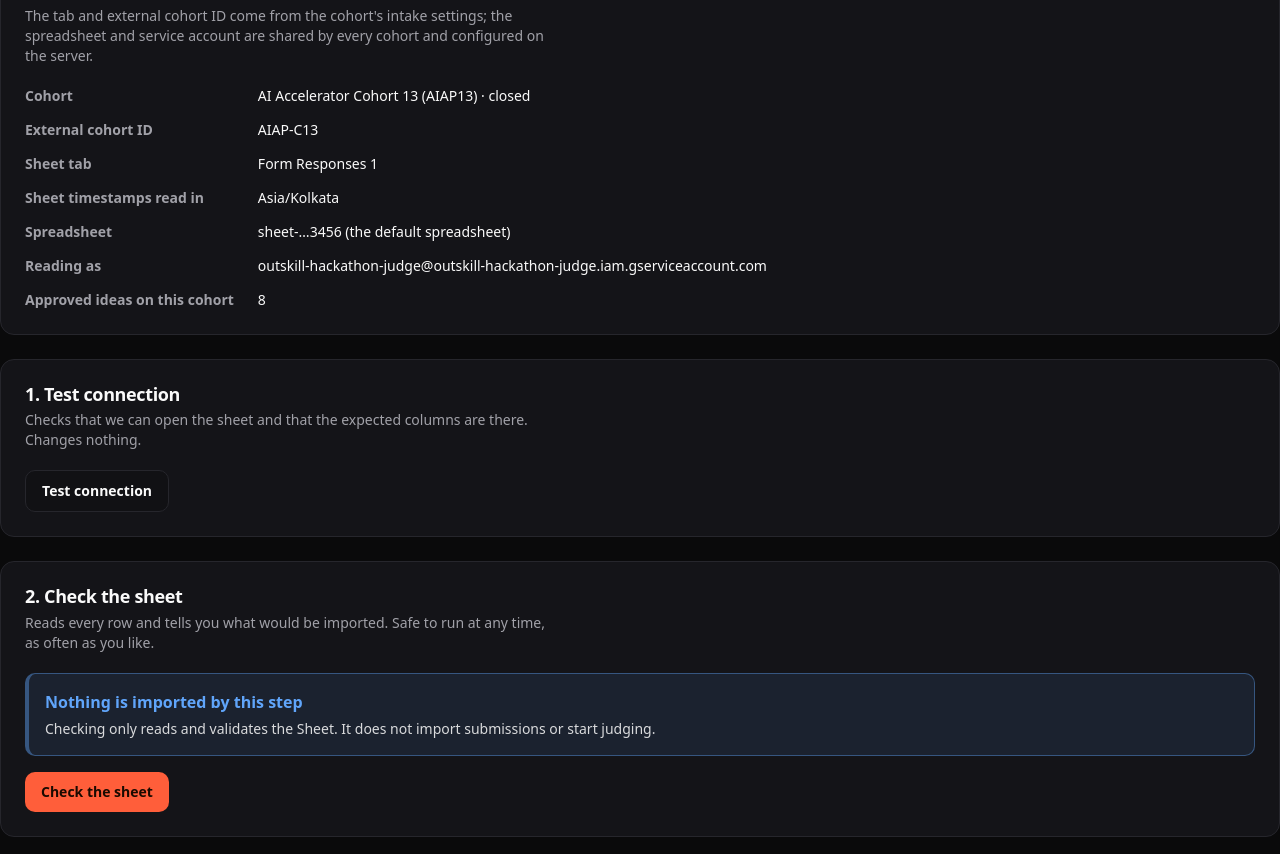
Test: after checking the sheet › offers no import when nothing is ready
This screenshot has width=1280, height=854.
Click the button "Check the sheet".
click(97, 792)  # box [25,772,169,812]
(page scrolled)
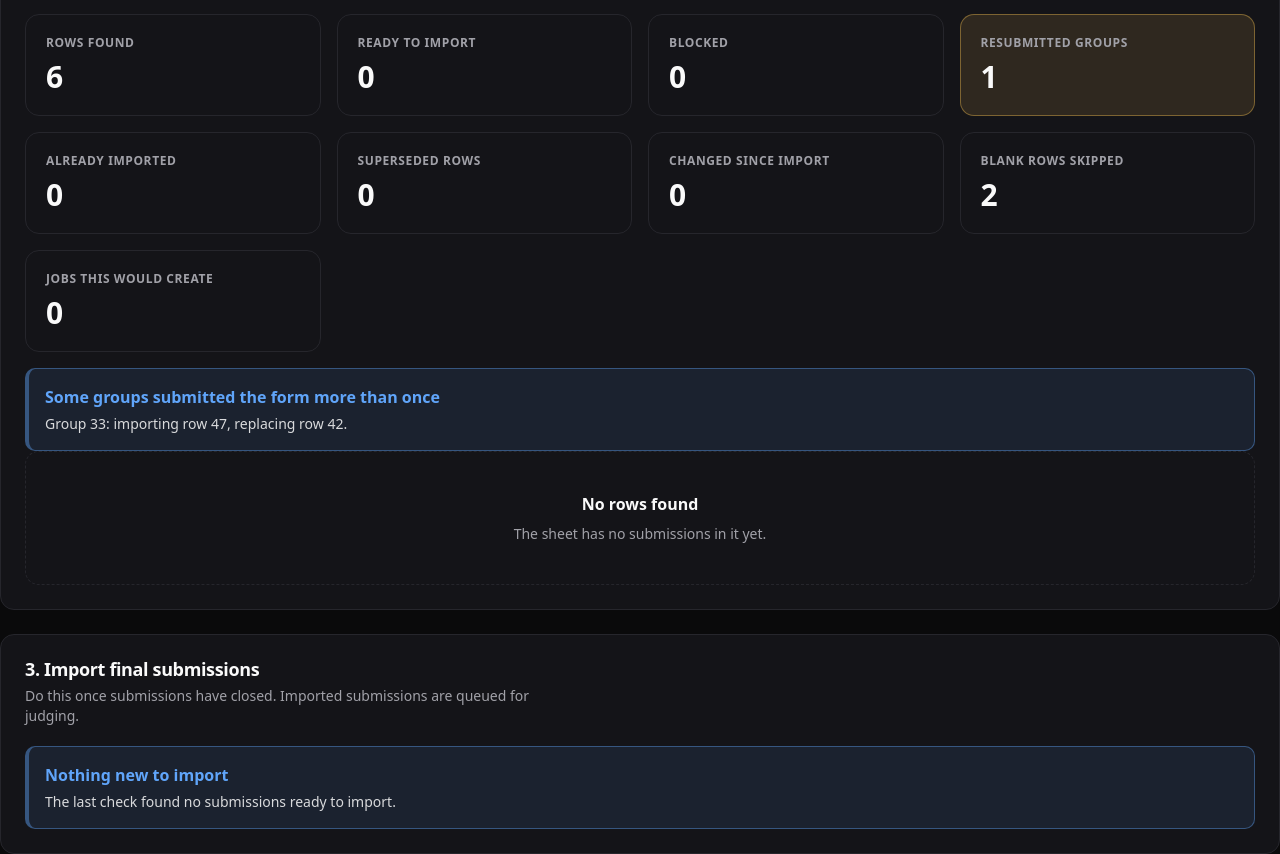
Expected: the text "Nothing new to import" is shown, [45,764,228,786]
